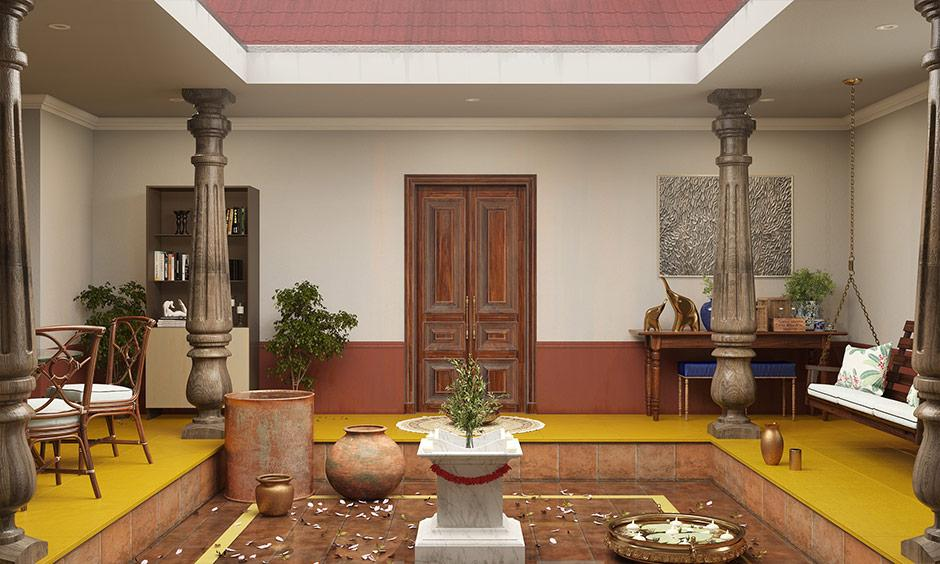chair: (67, 312, 159, 470), (32, 318, 109, 498)
door: (415, 184, 527, 409)
light: (49, 19, 72, 35), (878, 20, 902, 35), (466, 92, 489, 106), (170, 94, 192, 106), (759, 94, 781, 106)
table: (629, 327, 848, 422), (677, 360, 800, 418), (24, 342, 90, 366)
